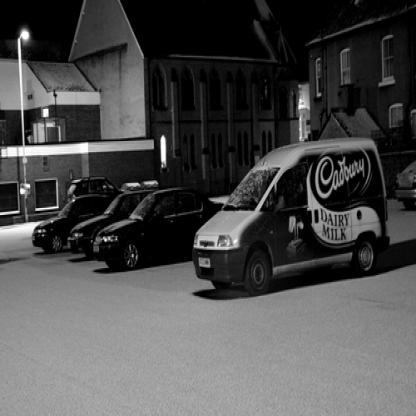car: (193, 138, 392, 297), (92, 187, 226, 272), (67, 188, 158, 262), (32, 197, 113, 255), (63, 175, 126, 205), (396, 160, 416, 212)
